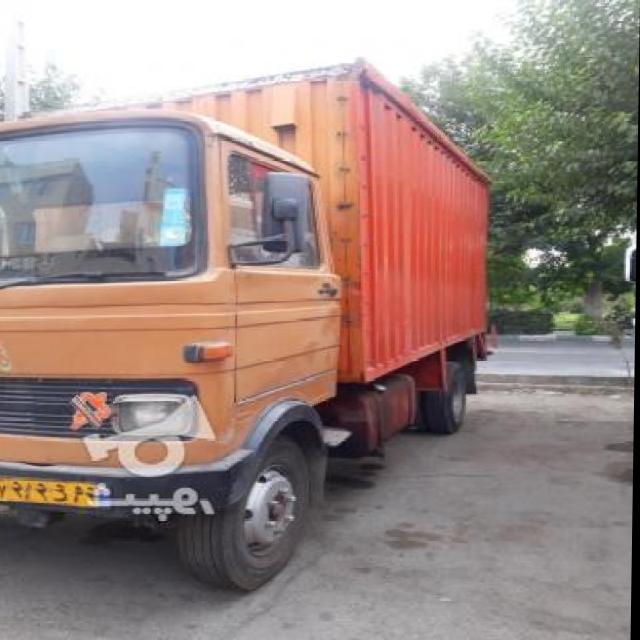licence: (0, 474, 113, 503)
